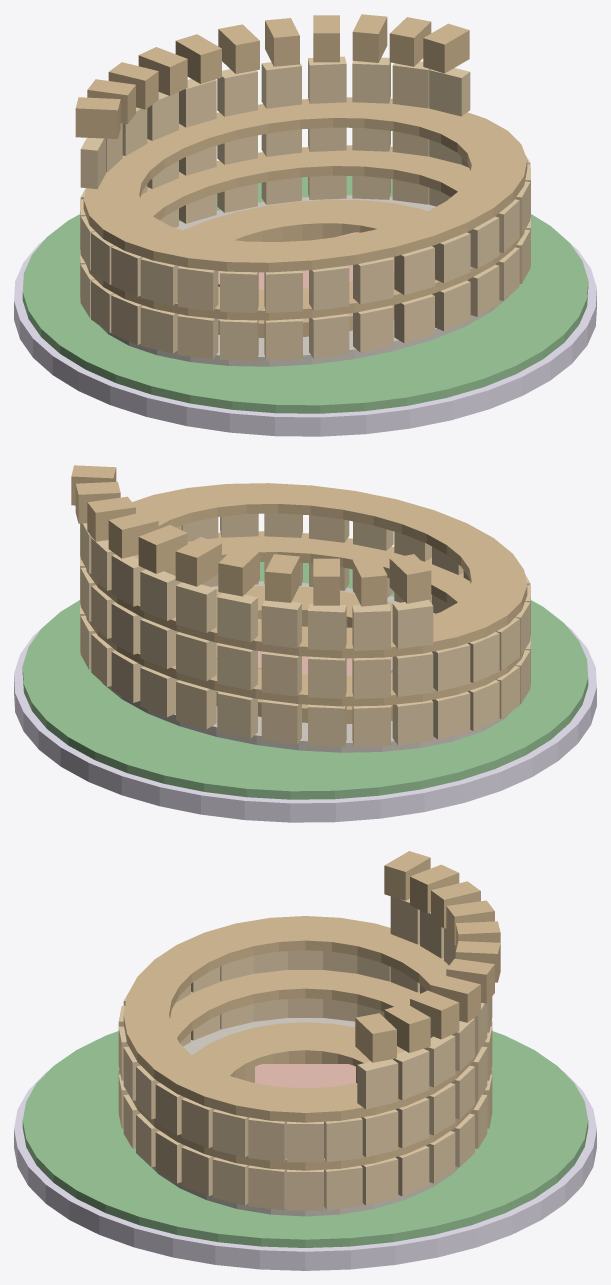
File: kolezyum.glb
The picture shows the model from 3 angles, top to bottom: view 1: azimuth 30°, elevation 25°; view 2: azimuth 150°, elevation 25°; view 3: azimuth 270°, elevation 25°; orthographic projection.
Parts seen in each view (by area): view 1: kolezyum; view 2: kolezyum; view 3: kolezyum.
Boxes of the visible parts, box(x1,y1,x2,y2) form: kolezyum: box(14, 14, 596, 436); kolezyum: box(14, 465, 596, 822); kolezyum: box(14, 851, 596, 1270).
Bounding box in the file's own units: 2.2 × 0.875 × 2.2.
Materials: 1 (1 with a texture image).
